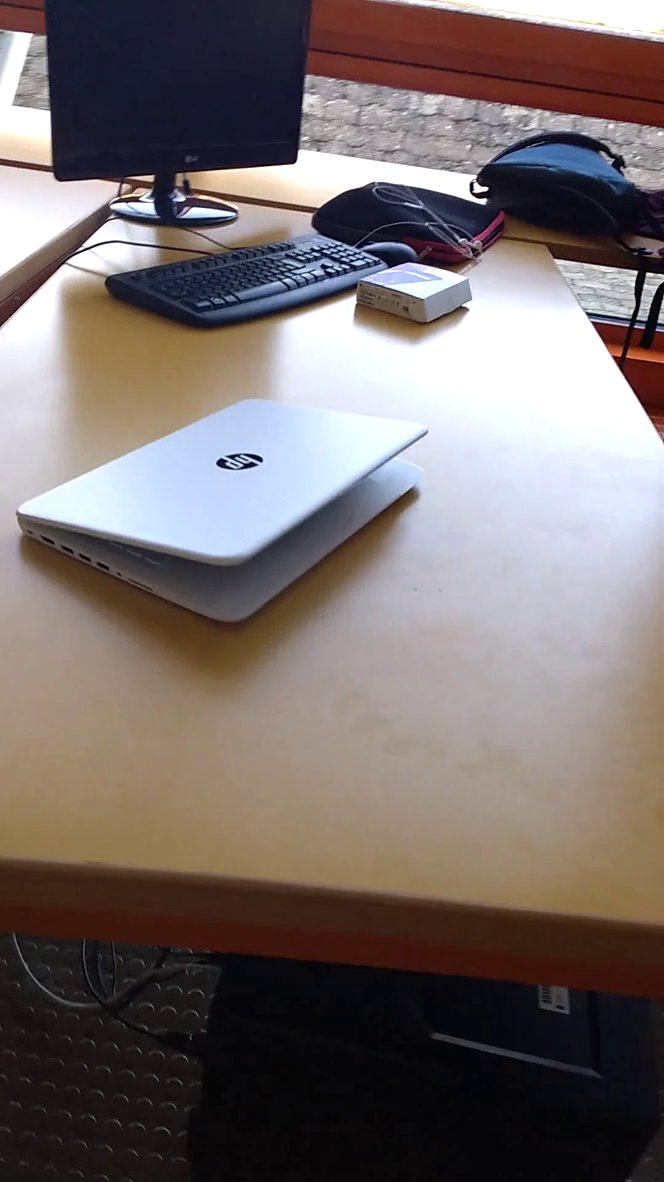bag: (466, 124, 644, 252)
laptop: (10, 384, 440, 639)
